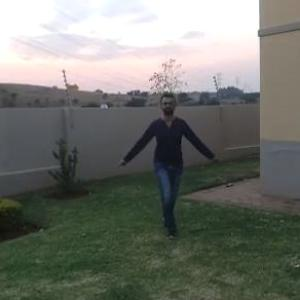land: (124, 95, 211, 218)
